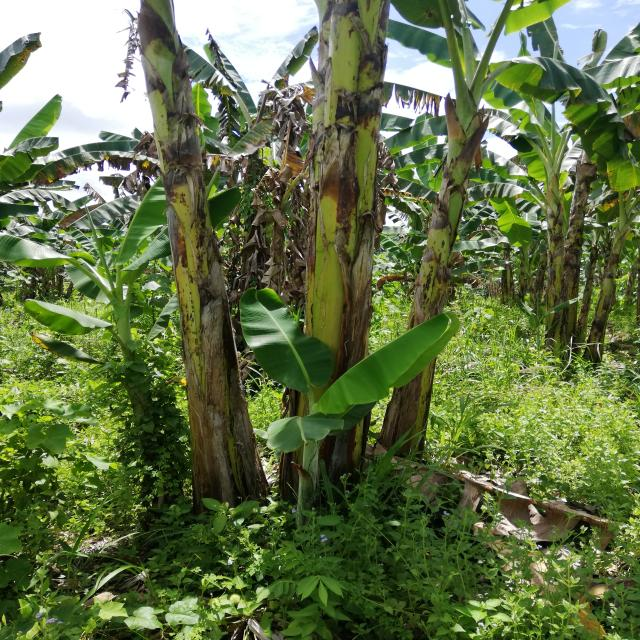Banana-plant: (125, 7, 262, 500), (282, 0, 394, 512), (389, 61, 485, 504), (537, 140, 573, 366)
